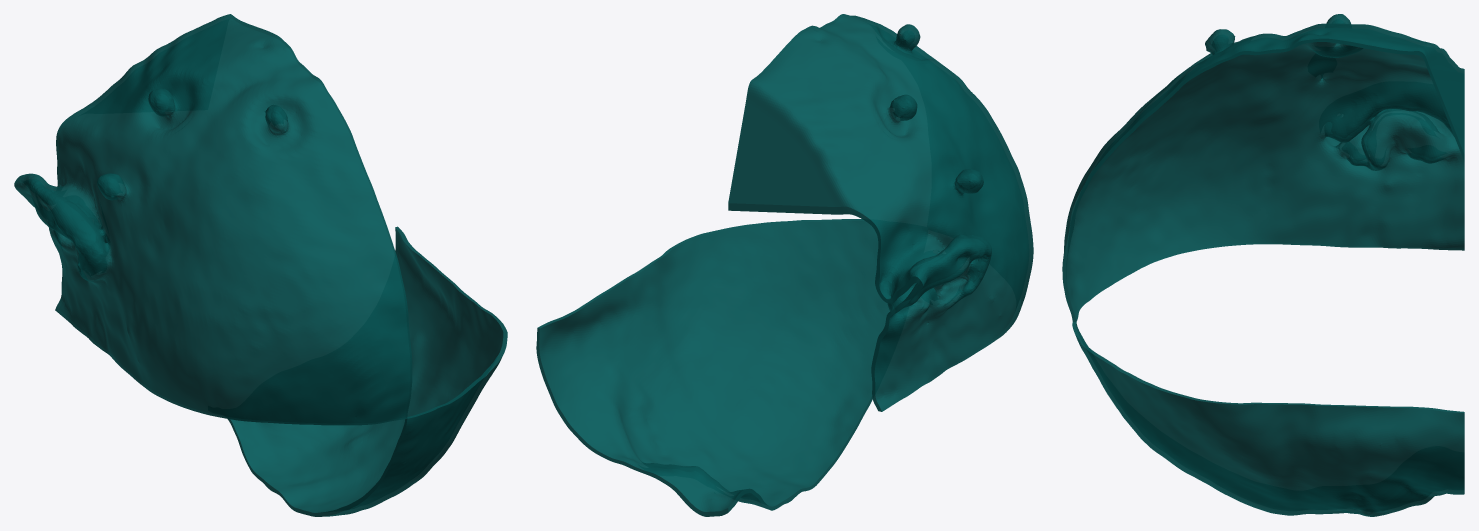
The model's file is Scalp_quadrants.obj.
The picture shows the model from 3 angles, left to right: view 1: azimuth 30°, elevation 25°; view 2: azimuth 150°, elevation 25°; view 3: azimuth 270°, elevation 25°; orthographic projection. The views are drawn at different scales.
Visible parts, largest first — view 1: grp1; view 2: grp1; view 3: grp1.
Part boxes in pixels (box(x1,y1,x2,y2)): grp1: box(14, 14, 507, 516); grp1: box(536, 14, 1033, 516); grp1: box(1062, 14, 1464, 516).
Size of the model in its own units: 161 by 182 by 146.
